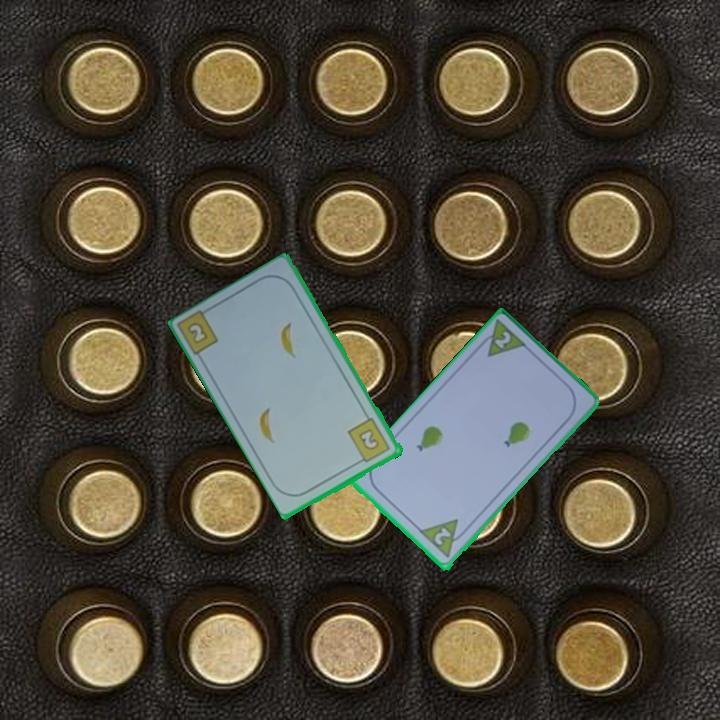2b: (345, 414, 393, 467), (183, 318, 211, 347)
2p: (474, 317, 530, 361), (430, 524, 454, 549)
